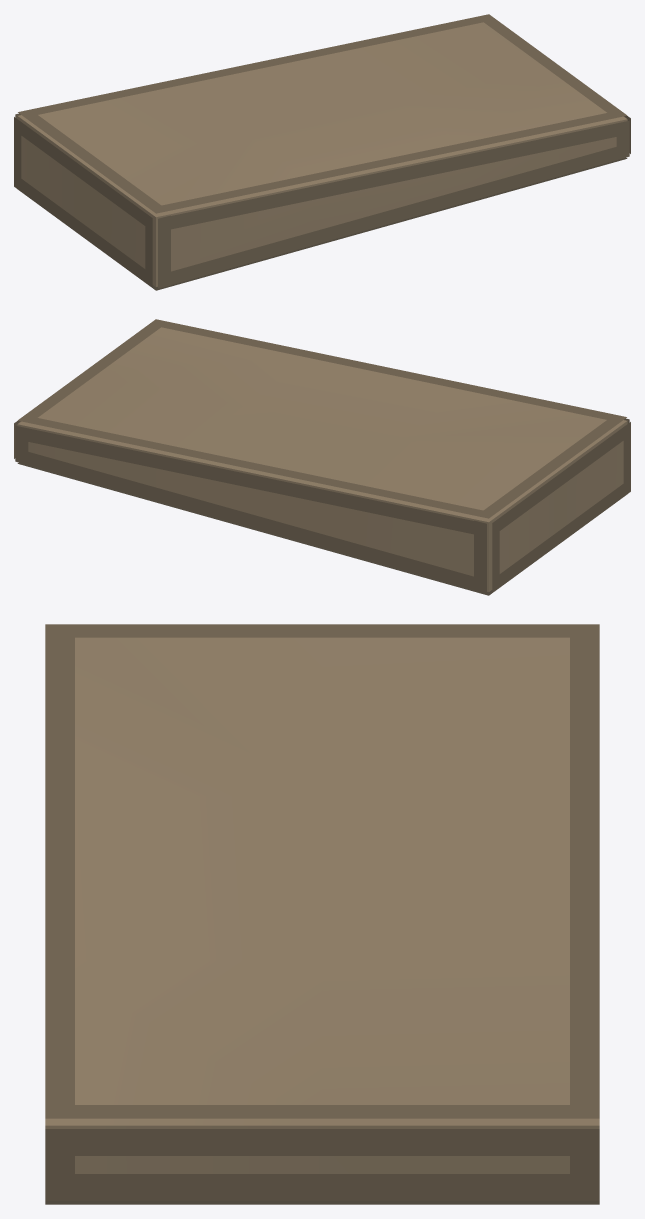
File: wedge-l.glb
The picture shows the model from 3 angles, top to bottom: view 1: azimuth 30°, elevation 25°; view 2: azimuth 150°, elevation 25°; view 3: azimuth 270°, elevation 25°; orthographic projection. The views are drawn at different scales.
Parts seen in each view (by area): view 1: wedge-l; view 2: wedge-l; view 3: wedge-l.
Part boxes in pixels (x1=…): wedge-l: x1=14, y1=14, x2=630, y2=290; wedge-l: x1=14, y1=319, x2=630, y2=595; wedge-l: x1=45, y1=624, x2=599, y2=1204.
Bounding box in the file's own units: 0.0558 × 0.0086 × 0.0288.
